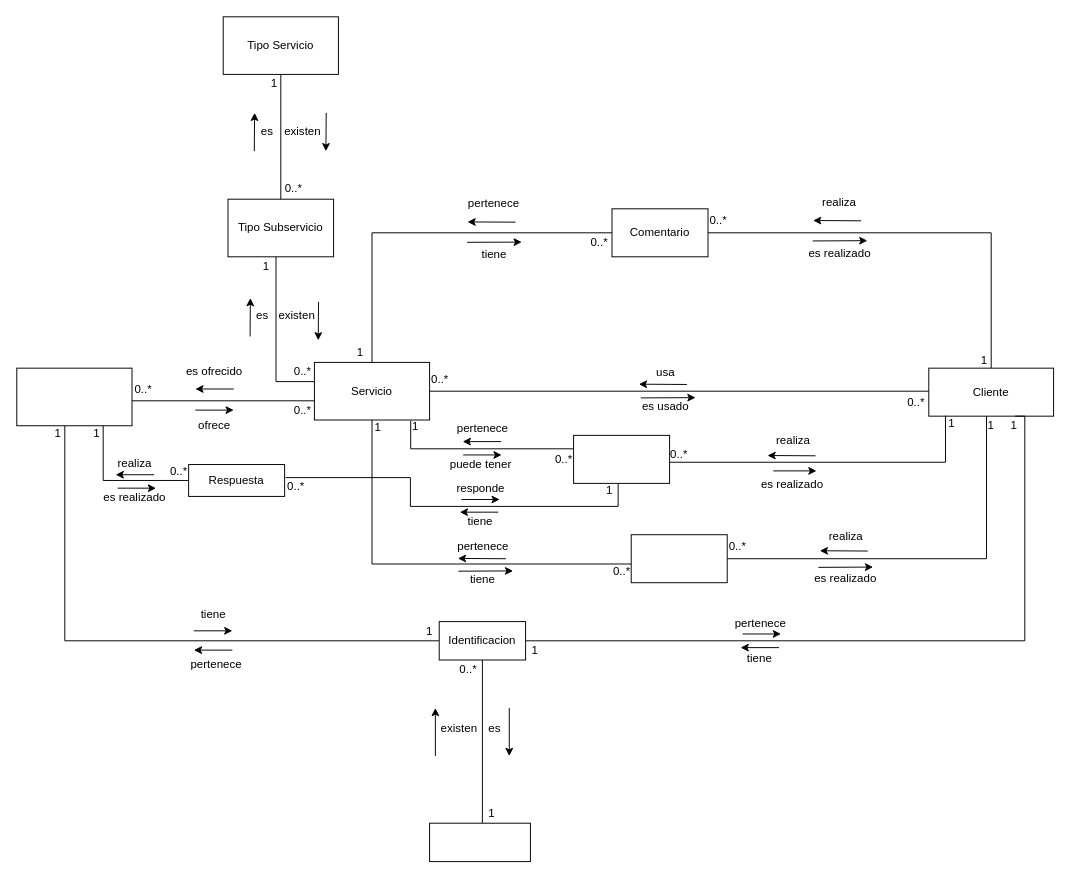
Some shapes in this 1070 by 878 pixel diagram are drawn without their labels. The centre of each missing label's shape, as x and y in pixels:
"Calificacion" belongs at pixel 678 558.
"Pregunta" belongs at pixel 621 458.
"Prestador Serivicio" belongs at pixel 74 396.
"Tipo Identificacion" belongs at pixel 479 842.
